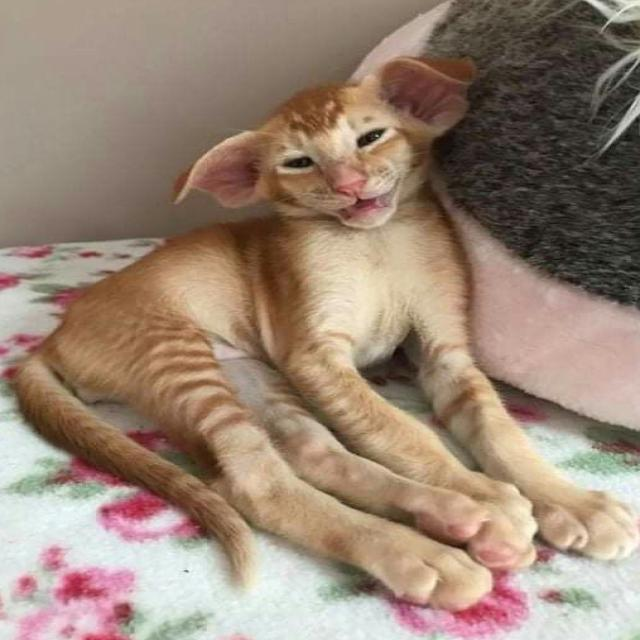Oriental: (9, 50, 640, 615)
